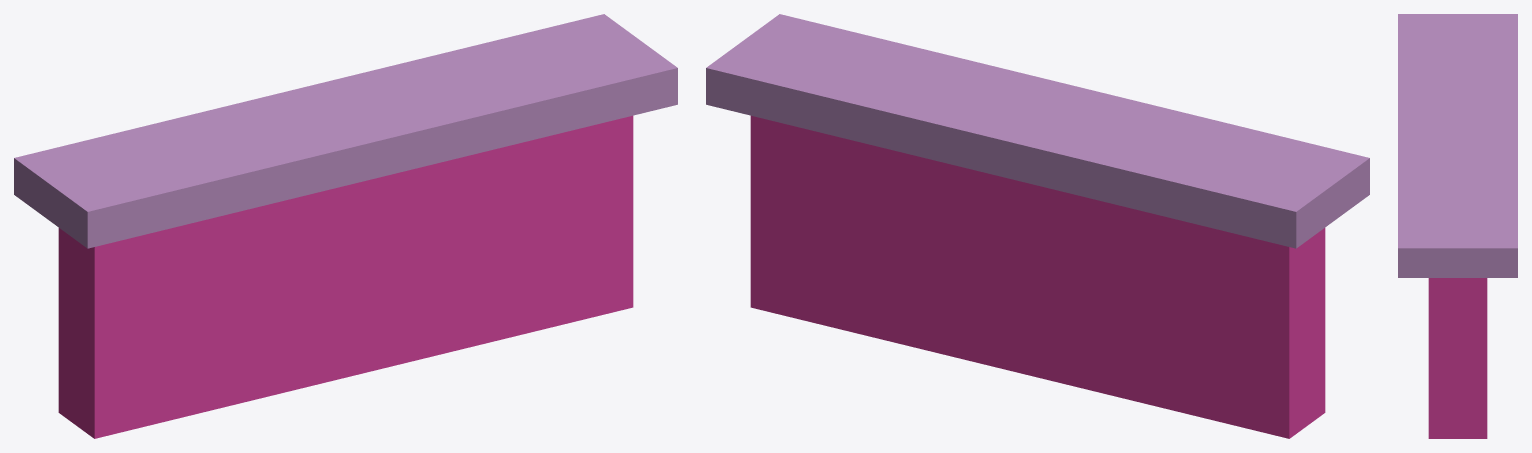
File: SM_ExitSign.fbx
3 views of the same model, side by side, from view 1: azimuth 30°, elevation 25°; view 2: azimuth 150°, elevation 25°; view 3: azimuth 270°, elevation 25° (orthographic). The views are drawn at different scales.
Visible parts, largest first — view 1: pCube63, pCube65; view 2: pCube63, pCube65; view 3: pCube65, pCube63.
Part boxes in pixels (box(x1,y1,x2,y2)): pCube63: box(58, 115, 633, 438); pCube65: box(14, 14, 677, 248); pCube63: box(750, 115, 1325, 438); pCube65: box(706, 14, 1369, 248); pCube65: box(1398, 14, 1517, 277); pCube63: box(1428, 278, 1487, 438).
Size of the model in its own units: 34.4 by 13.76 by 7.44.
